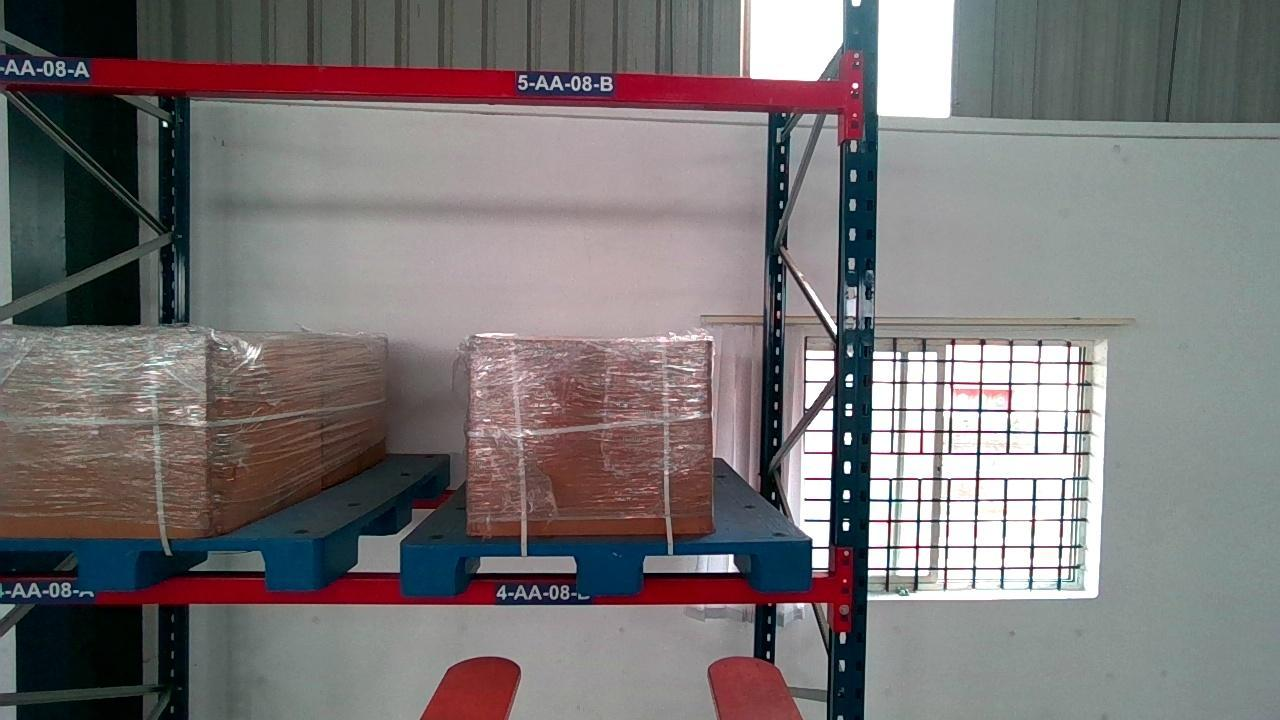h_rack: (1, 56, 848, 112), (0, 575, 840, 602)
small_pallet: (403, 538, 813, 591), (2, 536, 319, 591)
